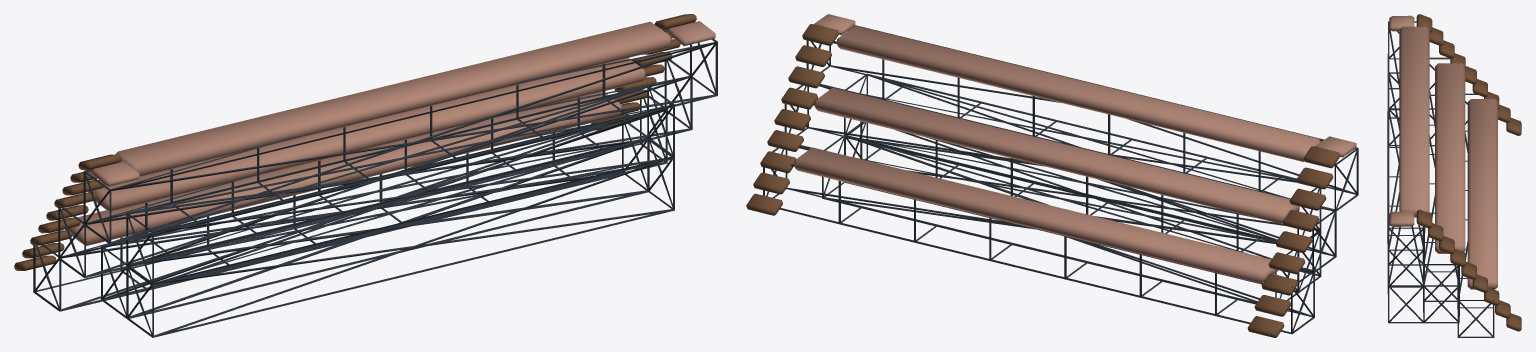
File: SM_Bench.fbx
The picture shows the model from 3 angles, left to right: view 1: azimuth 30°, elevation 25°; view 2: azimuth 150°, elevation 25°; view 3: azimuth 270°, elevation 25°; orthographic projection. The views are drawn at different scales.
Parts seen in each view (by area): view 1: SM_Bench; view 2: SM_Bench; view 3: SM_Bench.
Part boxes in pixels (bbox=[...]): SM_Bench: bbox=[14, 14, 717, 337]; SM_Bench: bbox=[746, 14, 1358, 337]; SM_Bench: bbox=[1387, 14, 1521, 337].
Bounding box in the file's own units: 3216 × 856 × 882.
